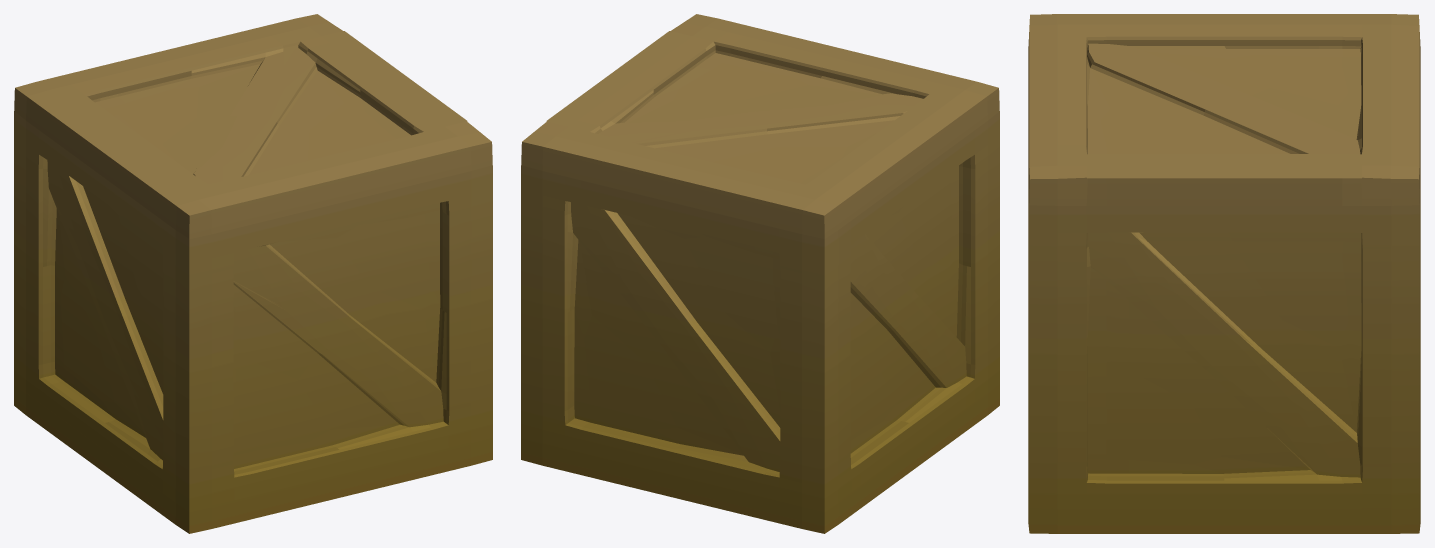
Rendered from Caja.fbx.
3 views of the same model, side by side, from view 1: azimuth 30°, elevation 25°; view 2: azimuth 150°, elevation 25°; view 3: azimuth 270°, elevation 25° (orthographic). The views are drawn at different scales.
Parts seen in each view (by area): view 1: Box; view 2: Box; view 3: Box.
Boxes of the visible parts, box(x1,y1,x2,y2) form: Box: box(14, 14, 492, 533); Box: box(521, 14, 999, 533); Box: box(1028, 14, 1420, 533).
Bounding box in the file's own units: 200 × 200 × 200.
